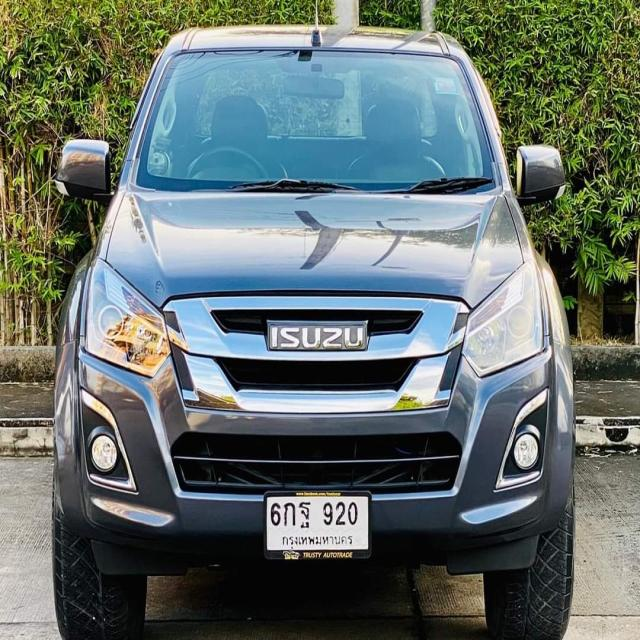license_plate: (263, 485, 375, 567)
